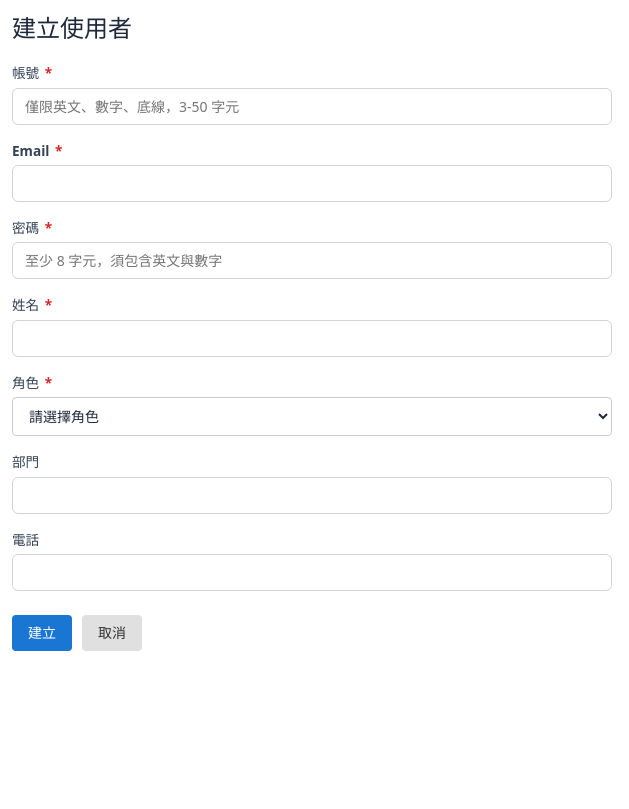
Test: UserCreatePage › shows validation errors on empty submit
This screenshot has width=629, height=809.
Expected: the field labelled "帳號 *" is shown, left=12, top=88, right=612, bottom=125
Click the button "建立" at coordinates (42, 633), box left=12, top=615, right=72, bottom=650
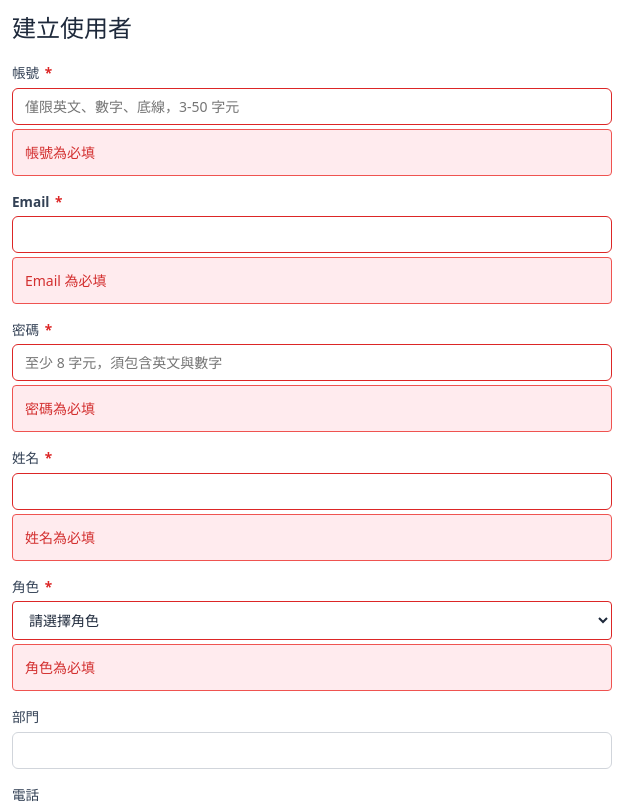
Expected: the text "帳號為必填" is shown, left=12, top=129, right=612, bottom=176
Expected: the text "Email 為必填" is shown, left=12, top=257, right=612, bottom=304
Expected: the text "密碼為必填" is shown, left=12, top=385, right=612, bottom=432
